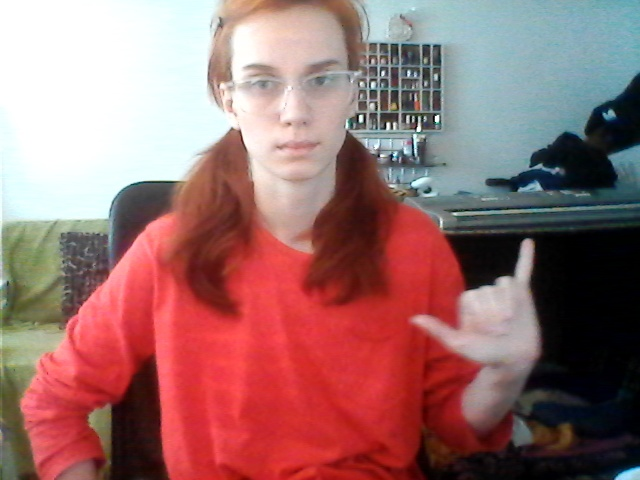kto: (406, 236, 557, 378)
